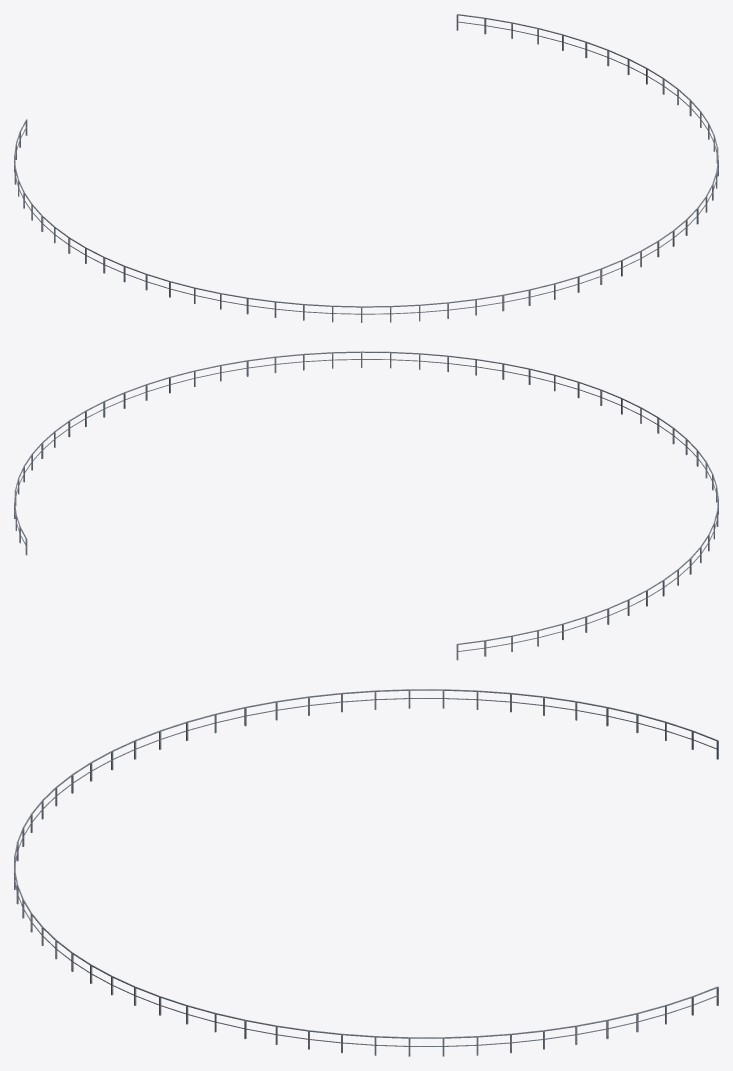
File: island_fence_09.fbx
3 views of the same model, one above another, from view 1: azimuth 30°, elevation 25°; view 2: azimuth 150°, elevation 25°; view 3: azimuth 270°, elevation 25° (orthographic). The views are drawn at different scales.
Parts seen in each view (by area): view 1: island_fence_09; view 2: island_fence_09; view 3: island_fence_09.
Boxes of the visible parts, x1=… form: island_fence_09: x1=14, y1=14, x2=718, y2=322; island_fence_09: x1=14, y1=351, x2=718, y2=660; island_fence_09: x1=14, y1=689, x2=718, y2=1056.
Bounding box in the file's own units: 4145 × 105 × 3542.
